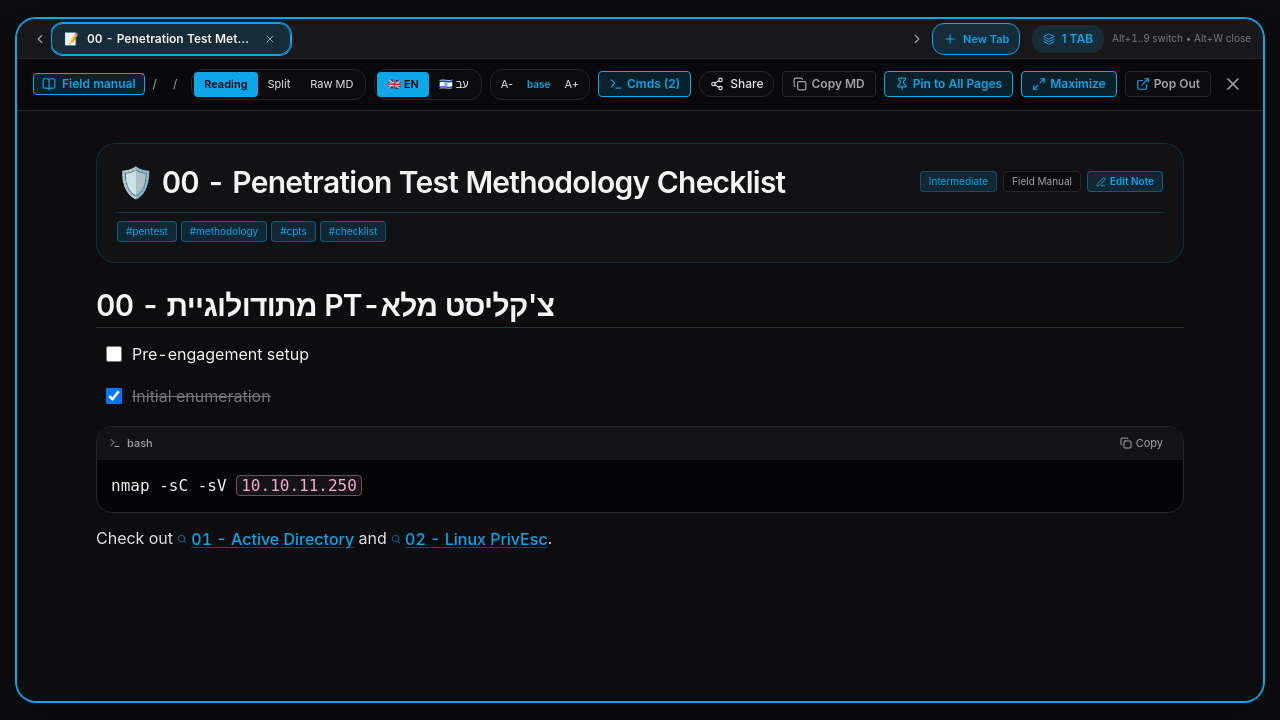
Test: Multi-Tab Note Workspace in ObsidianNoteViewer › TAB-17: scales reader font size with A- / A+ buttons and persists to localStorage
This screenshot has width=1280, height=720.
Expected: the text with test id "font-size-indicator" reads "base", [527,78,550,90]
Click the button with test id "increase-font-size-button": coordinates (572, 84) [556,72,587,96]
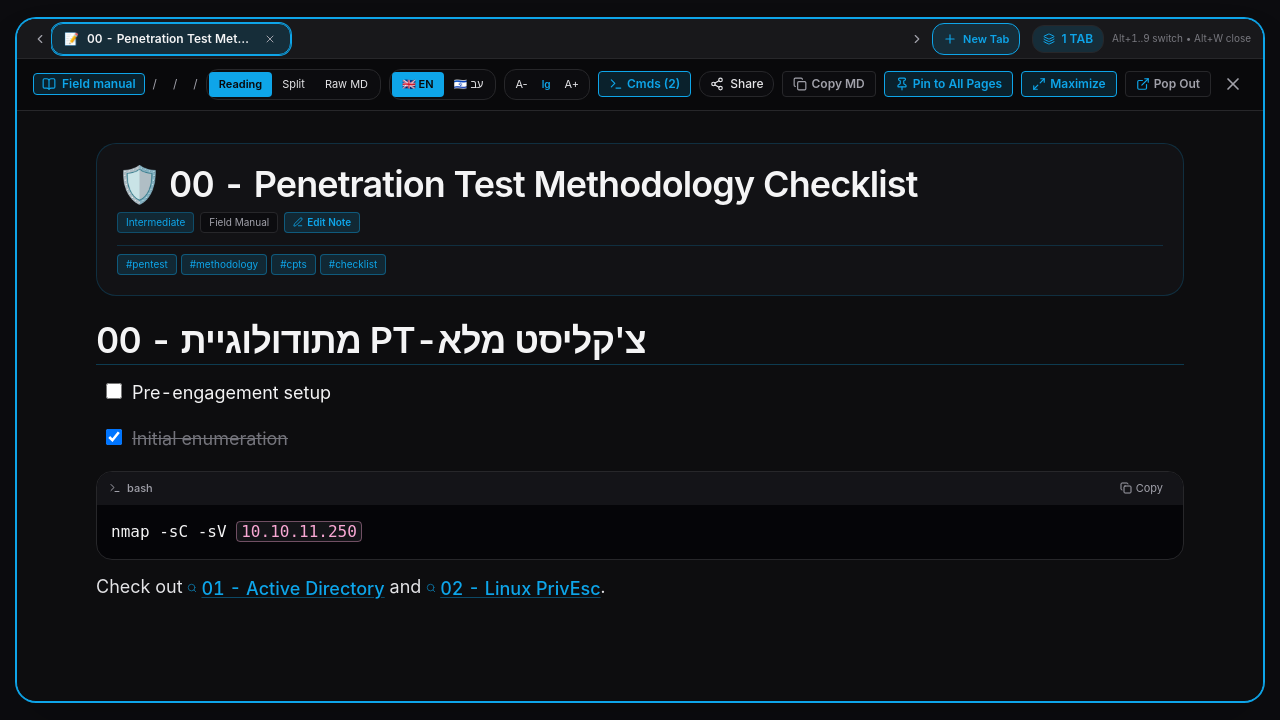
Now the text with test id "font-size-indicator" reads "lg", box [542,78,551,90]
Click the button with test id "increase-font-size-button": coordinates (572, 84) [556,72,587,96]
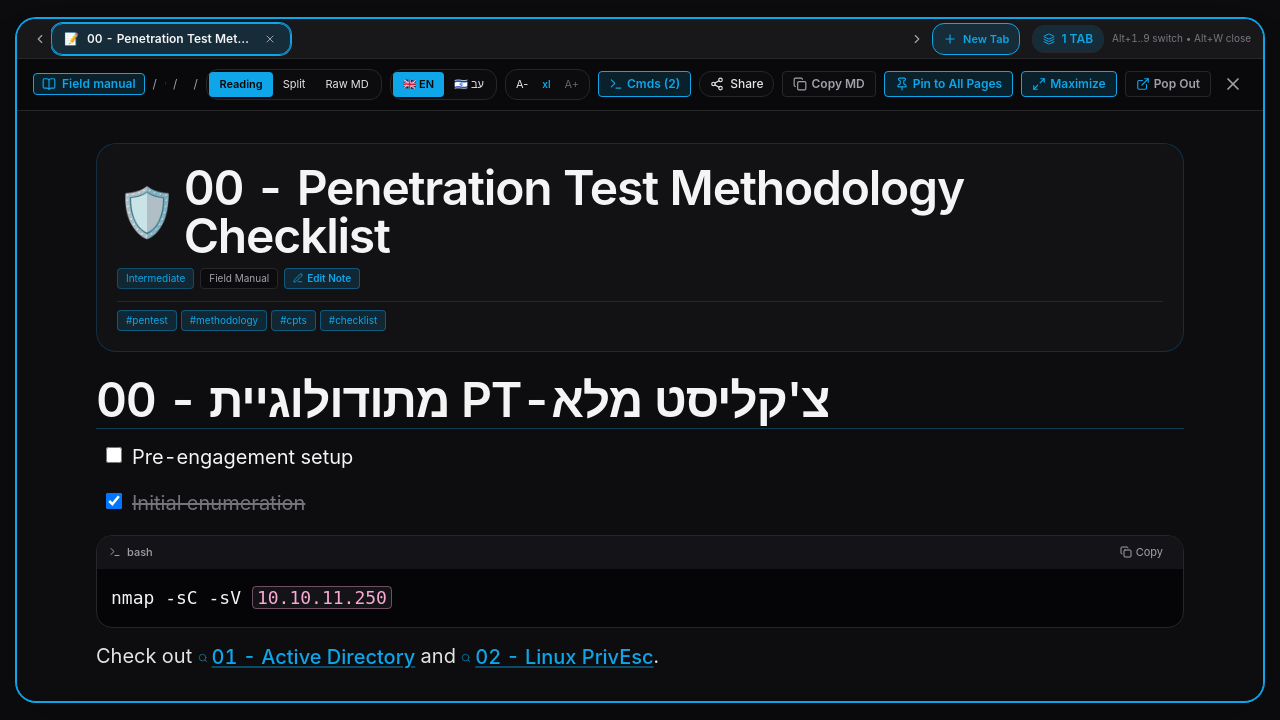
Now the text with test id "font-size-indicator" reads "xl", box [542,78,550,90]
Click the button with test id "decrease-font-size-button": coordinates (522, 84) [508,72,536,96]
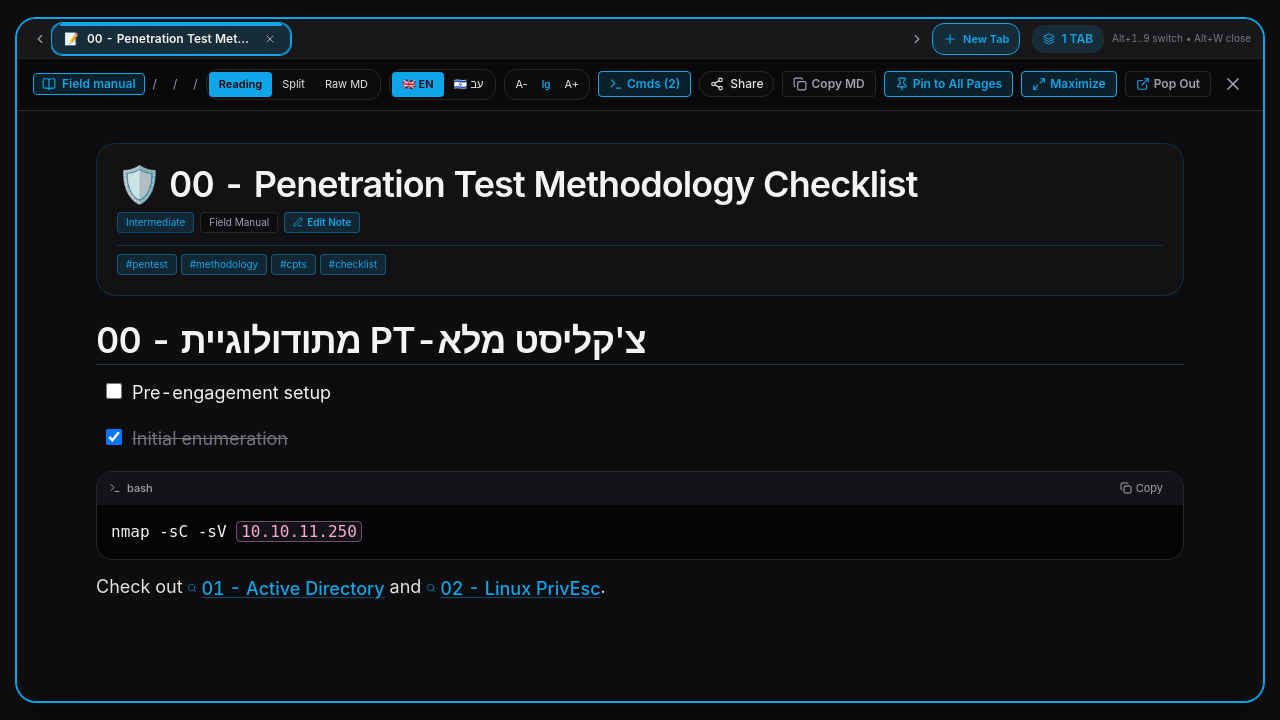
Now the text with test id "font-size-indicator" reads "lg", box [542,78,551,90]
